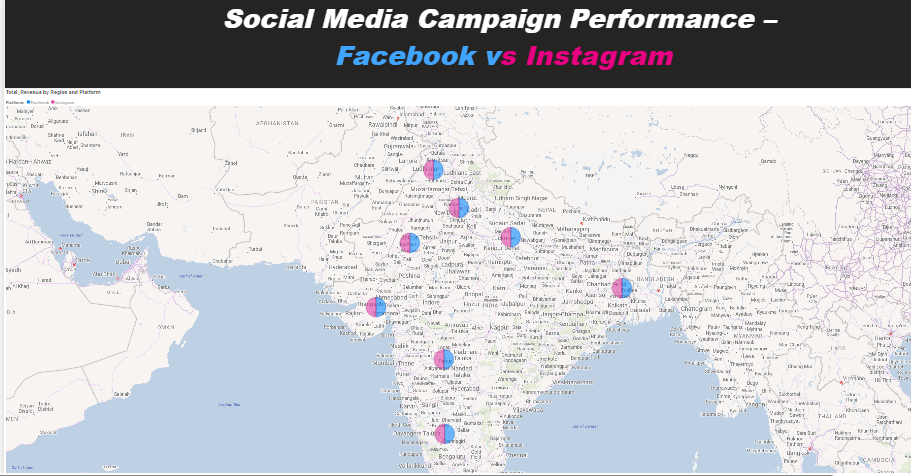

Layout of this report page (visuals, bound fields, positions):
{"tool":"powerbi","page":{"name":"Map","canvas":[3000,2200],"ordinal":2},"visuals":[{"type":"map","fields":{"Category":["social_media_campaign_data.Region"],"Series":["social_media_campaign_data.Platform"],"X":["social_media_campaign_data.Total_Revenue"]},"box":[0,279.3,3000,1441.4],"z":0},{"type":"textbox","box":[0,0,3000,279.3],"z":1000}]}

Visuals, with their boxes on the page's 3000x2200 design canvas (x1, y1, x2, y2). These are canvas units, not pixel positions in the 913x476 screenshot, which may show the page scaled, cropped or inside an application window:
map - social_media_campaign_data.Region x social_media_campaign_data.Platform: 0:279:3000:1721
textbox: 0:0:3000:279
